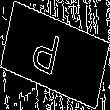P_S: (38, 25, 72, 85)
